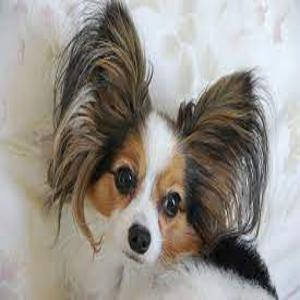yell: (47, 0, 277, 300)
